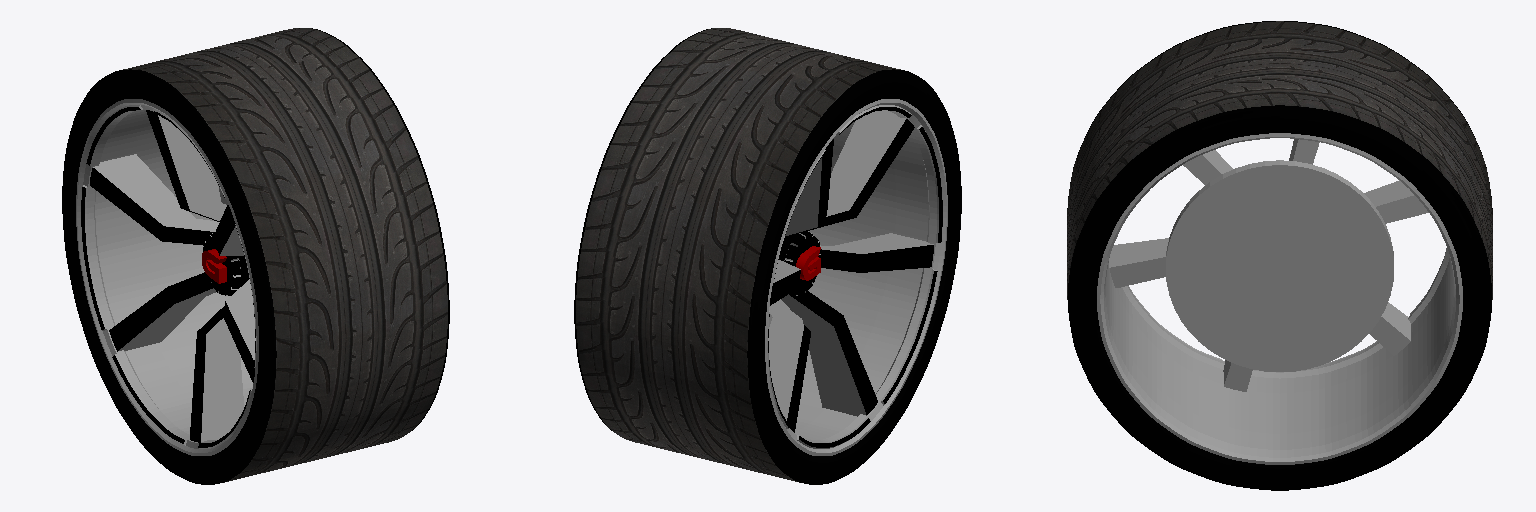
3 renders of one model, left to right at view 1: azimuth 30°, elevation 25°; view 2: azimuth 150°, elevation 25°; view 3: azimuth 270°, elevation 25°, orthographic.
Size of the model in its own units: 0.4905 by 0.998 by 0.998.
Materials: 5 (1 with a texture image).